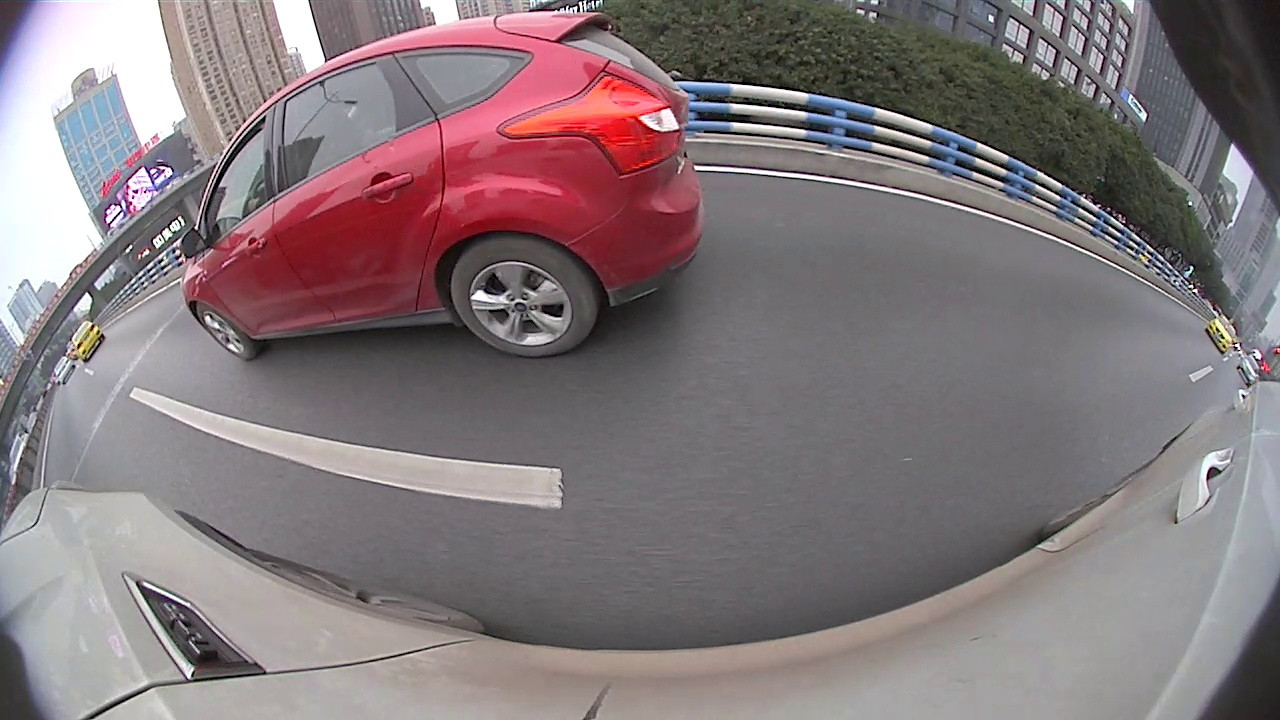car: (1104, 251, 1278, 428), (347, 139, 545, 259), (775, 131, 971, 246), (1045, 235, 1212, 298), (619, 136, 718, 219), (1030, 226, 1140, 287), (736, 145, 813, 196), (525, 157, 578, 198), (706, 153, 737, 189), (609, 153, 637, 188), (570, 160, 598, 190)
front: (1128, 306, 1193, 382), (1055, 254, 1089, 288), (777, 177, 794, 211), (532, 186, 544, 214)
person: (984, 189, 997, 230), (1006, 192, 1018, 234), (1042, 205, 1056, 240)
rear: (839, 189, 871, 235), (474, 197, 497, 242)
